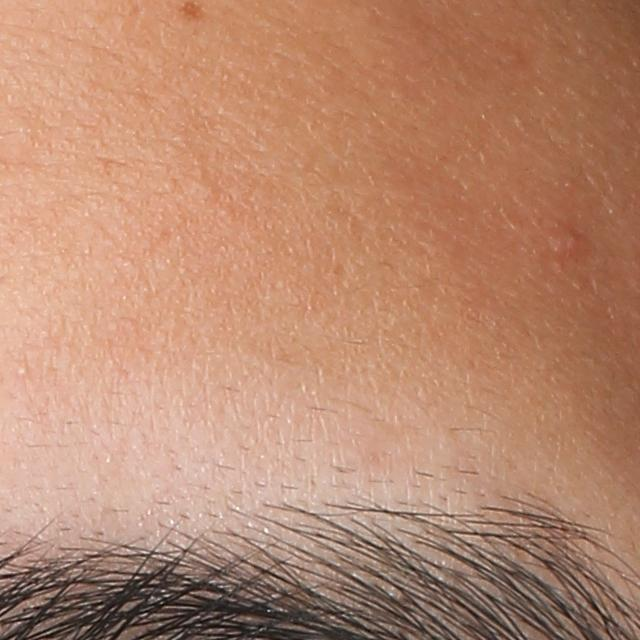comedo: (13, 365, 32, 378)
papule: (557, 226, 592, 262)
